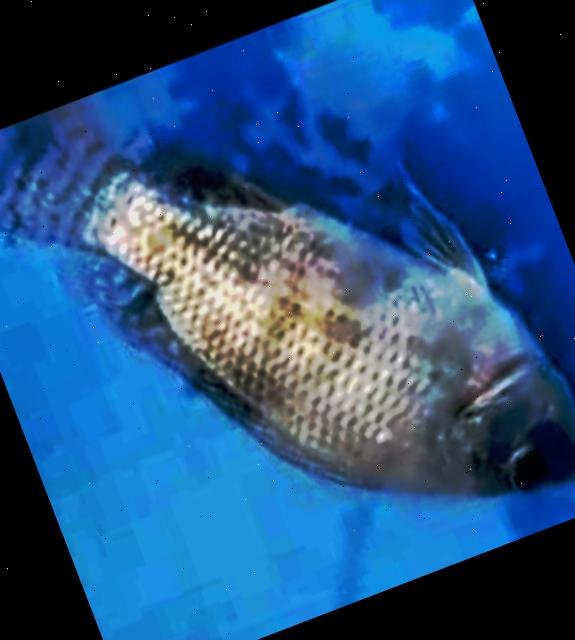Columnaris Disease: (0, 104, 575, 498)
